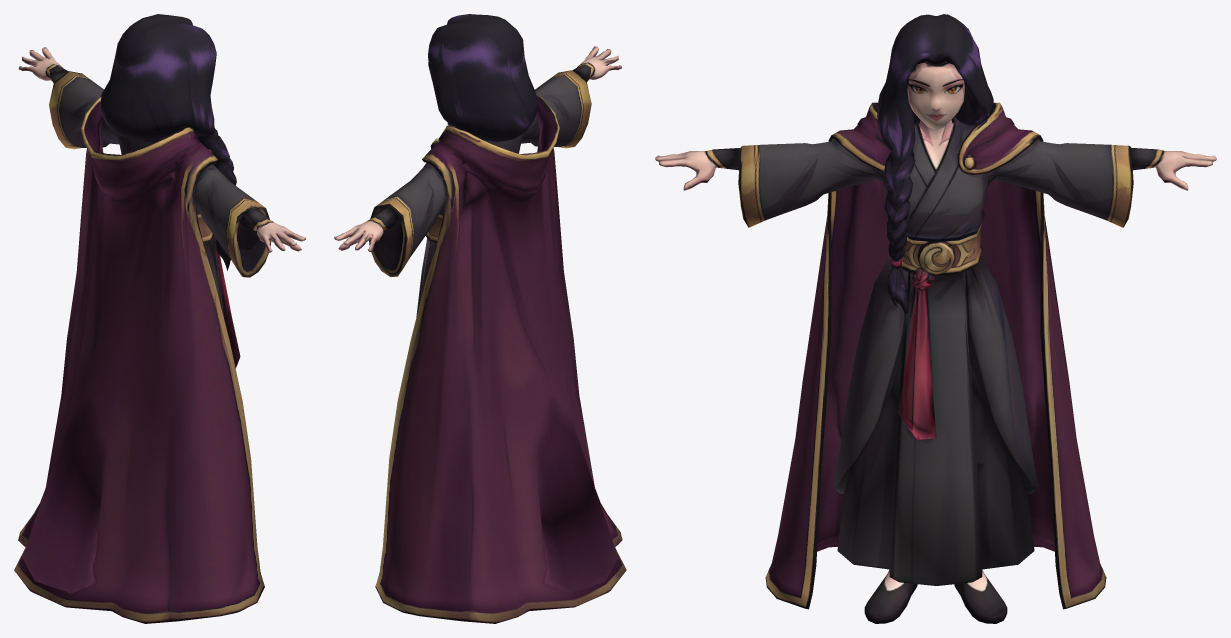
The model's file is eleanor-P1.glb.
3 views of the same model, side by side, from view 1: azimuth 30°, elevation 25°; view 2: azimuth 150°, elevation 25°; view 3: azimuth 270°, elevation 25° (orthographic). The views are drawn at different scales.
Parts seen in each view (by area): view 1: tripo_node_cd72178c-6217-42a2-a894-62e8000909a2; view 2: tripo_node_cd72178c-6217-42a2-a894-62e8000909a2; view 3: tripo_node_cd72178c-6217-42a2-a894-62e8000909a2.
Boxes of the visible parts, x1,y1,x2,y2 form: tripo_node_cd72178c-6217-42a2-a894-62e8000909a2: (14, 14, 305, 623); tripo_node_cd72178c-6217-42a2-a894-62e8000909a2: (334, 14, 626, 623); tripo_node_cd72178c-6217-42a2-a894-62e8000909a2: (655, 14, 1216, 623).
Bounding box in the file's own units: 0.3809 × 0.998 × 0.8848.
1 material, 1 textured.
